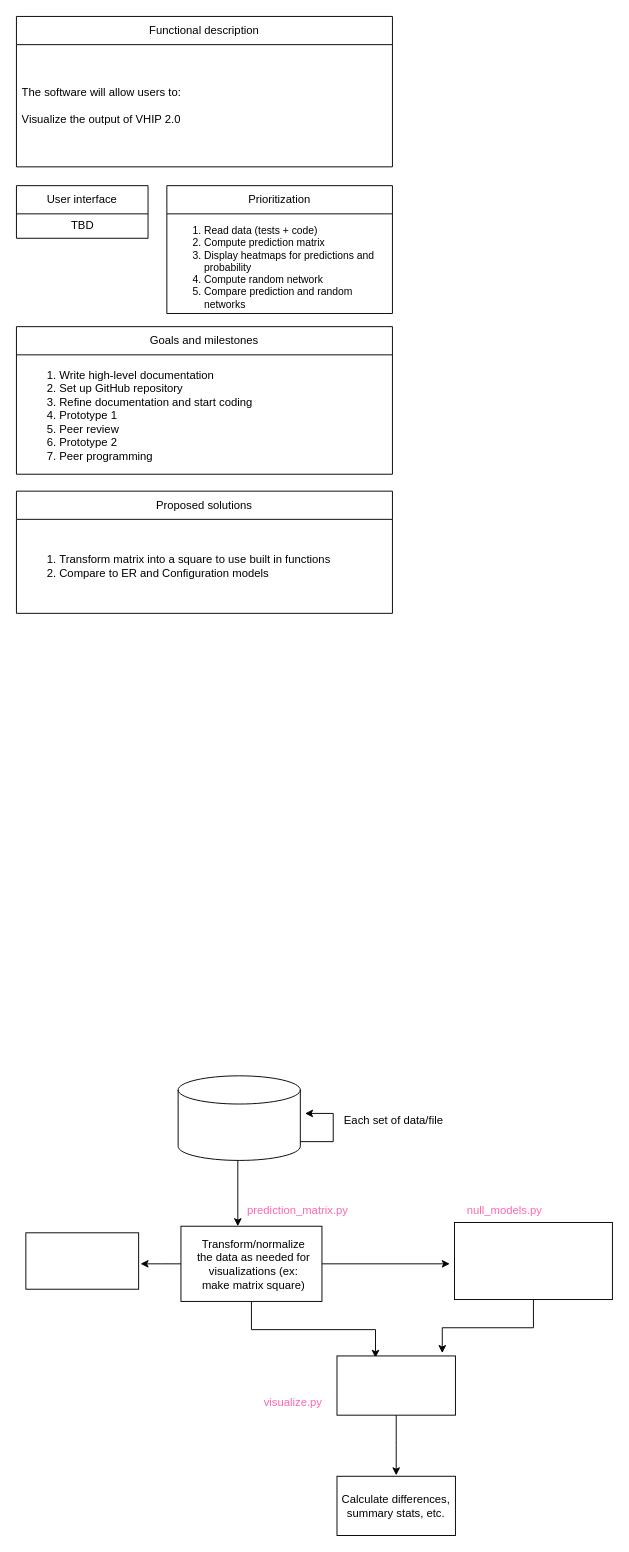
Image size: 629x1552. Some labels were removed from this diagram. Here are the shapes that lost their labels. From the top down, the centre of each, then its label:
point (238, 1117): Input .tsv results from VHIP analysis
point (82, 1260): Plot heatmap for matrix
point (533, 1261): Put unique viruses and unique hosts in random network (ER or configuration)
point (395, 1385): Visualize network graph
